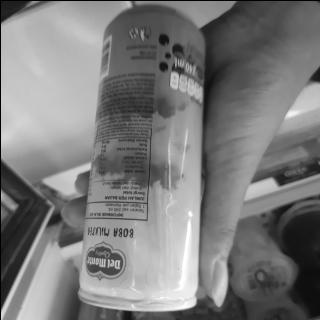alumunium_can: (48, 0, 234, 320)
